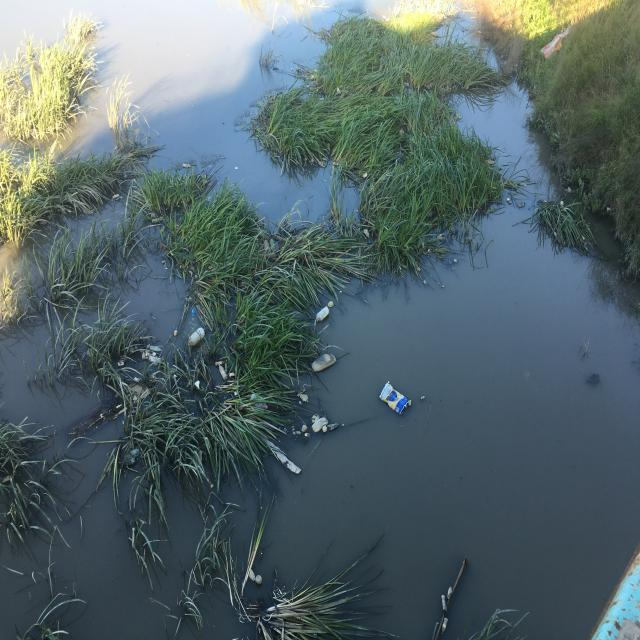Can: (145, 352, 153, 357), (173, 329, 178, 336), (152, 351, 156, 357)
Plastic: (310, 413, 320, 424), (117, 360, 125, 367)
Plastic bag: (584, 370, 601, 389)
Plastic bottle: (186, 327, 205, 348), (249, 393, 269, 409), (315, 306, 330, 323), (218, 363, 228, 380), (148, 355, 164, 364), (149, 344, 163, 352), (248, 568, 256, 582), (255, 574, 263, 584), (214, 360, 225, 366), (141, 350, 146, 360)
Plastic packaging: (377, 381, 411, 415)
Undefined trash: (310, 352, 338, 372), (310, 416, 330, 433), (326, 422, 339, 432), (327, 300, 334, 309)
Wood: (59, 376, 152, 447)
